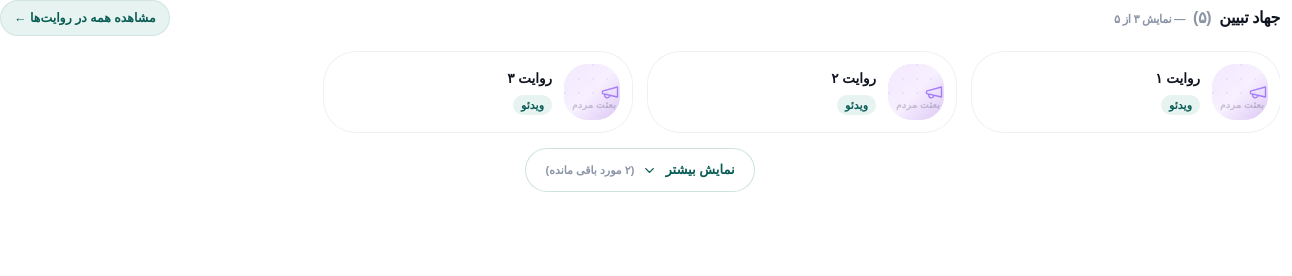
SearchGroupSection — «نمایش بیشتر» در همان صفحه › هم‌پوشانیِ مرزِ صفحه‌ها تکثیر نمی‌سازد (حذفِ تکرارِ id)
Click the button "نمایش بیشتر (۲ مورد باقی مانده)": point(640, 170) [526,148,754,192]
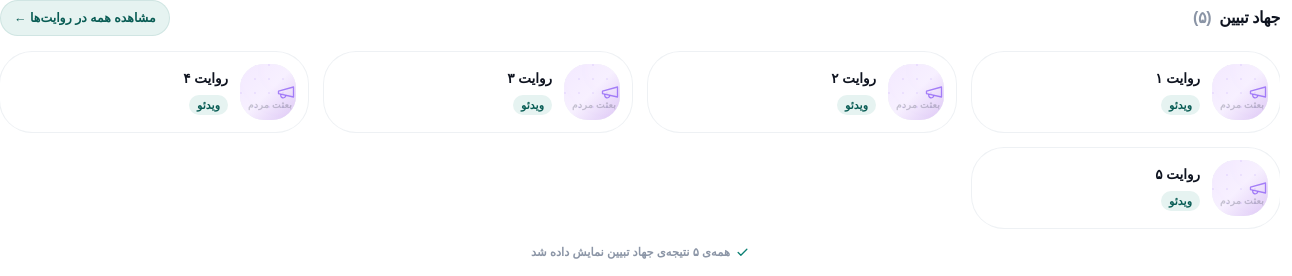
expect the text "روایت ۳" is shown once: met, box [507,71,552,86]
expect the text "روایت ۵" is shown: met, box [1155,167,1200,182]
